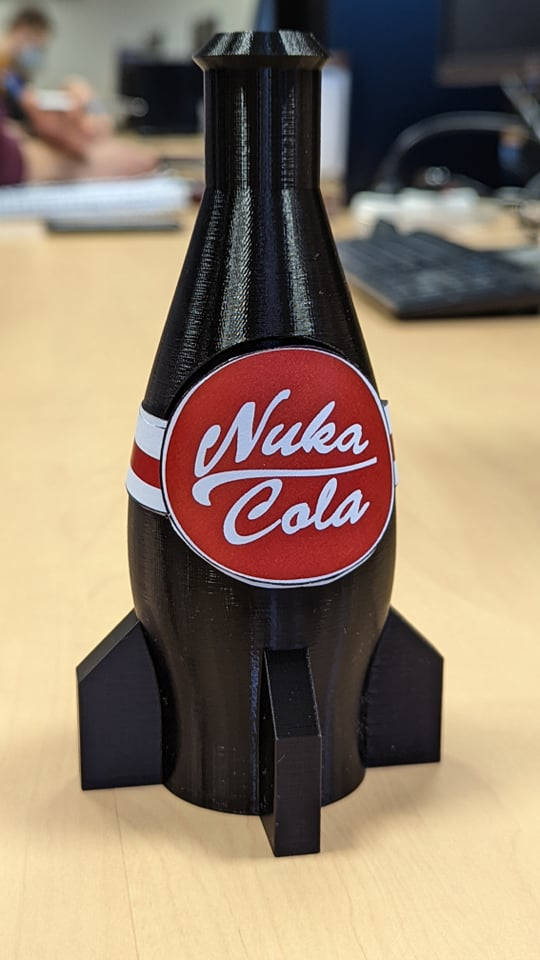bottle: (63, 20, 465, 869)
